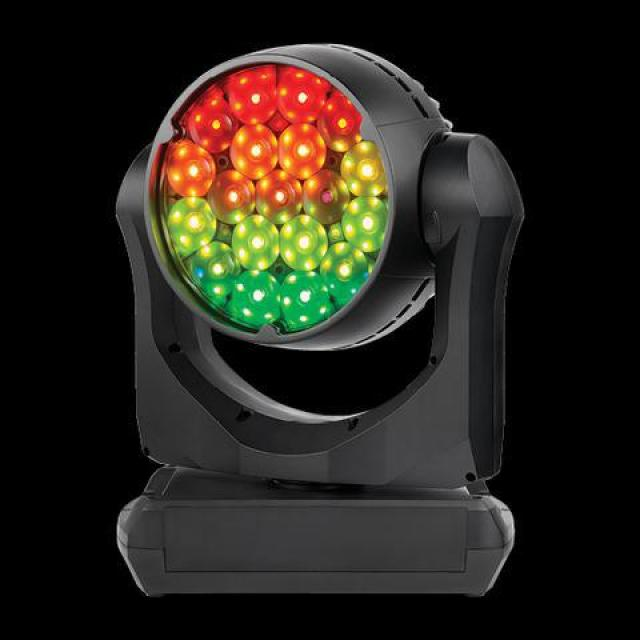other: (152, 67, 394, 337)
